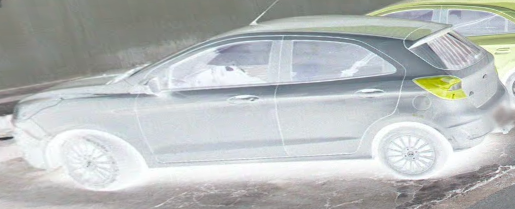car: (15, 21, 502, 182)
